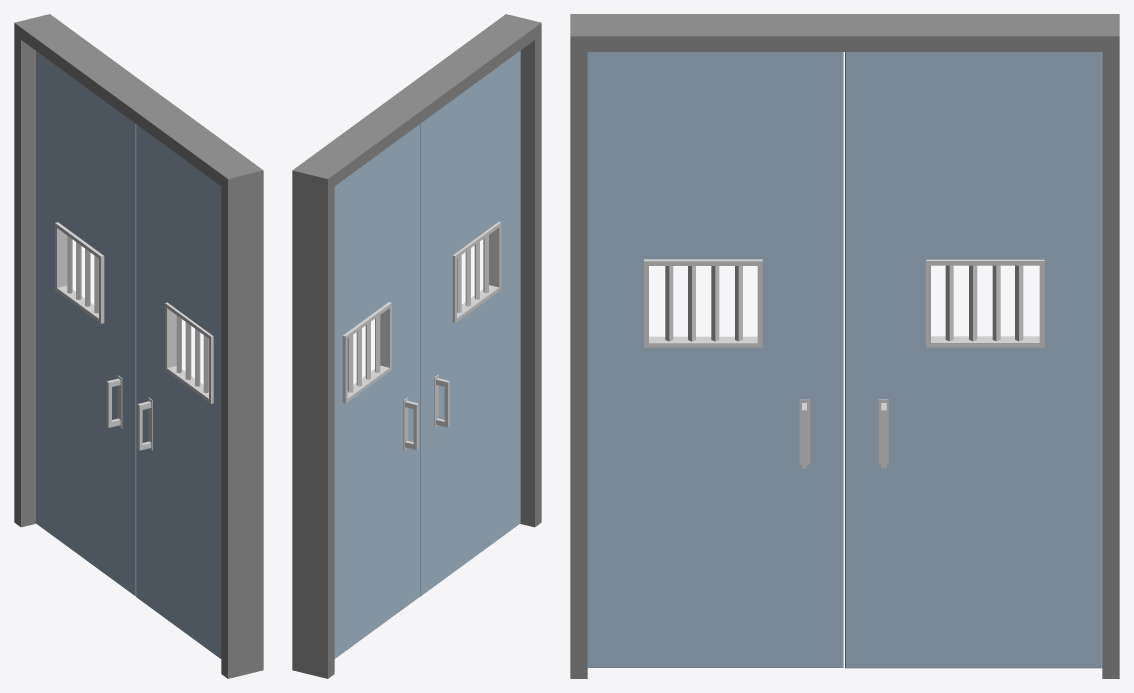
File: DoorMetal2.fbx
3 renders of one model, left to right at view 1: azimuth 30°, elevation 25°; view 2: azimuth 150°, elevation 25°; view 3: azimuth 270°, elevation 25°, orthographic. The views are drawn at different scales.
Visible parts, largest first — view 1: DoodMetal2.1, DoorMetalFrame2, DoodMetal2.2; view 2: DoodMetal2.2, DoorMetalFrame2, DoodMetal2.1; view 3: DoodMetal2.1, DoodMetal2.2, DoorMetalFrame2.
Boxes of the visible parts, bbox=[...] form: DoodMetal2.1: bbox=[36, 51, 136, 596]; DoorMetalFrame2: bbox=[14, 14, 263, 678]; DoodMetal2.2: bbox=[136, 124, 221, 658]; DoodMetal2.2: bbox=[420, 50, 520, 596]; DoorMetalFrame2: bbox=[292, 14, 541, 678]; DoodMetal2.1: bbox=[334, 124, 419, 658]; DoodMetal2.1: bbox=[845, 52, 1102, 668]; DoodMetal2.2: bbox=[587, 52, 843, 667]; DoorMetalFrame2: bbox=[570, 14, 1119, 678].
Bounding box in the file's own units: 42.05 × 563 × 437.
